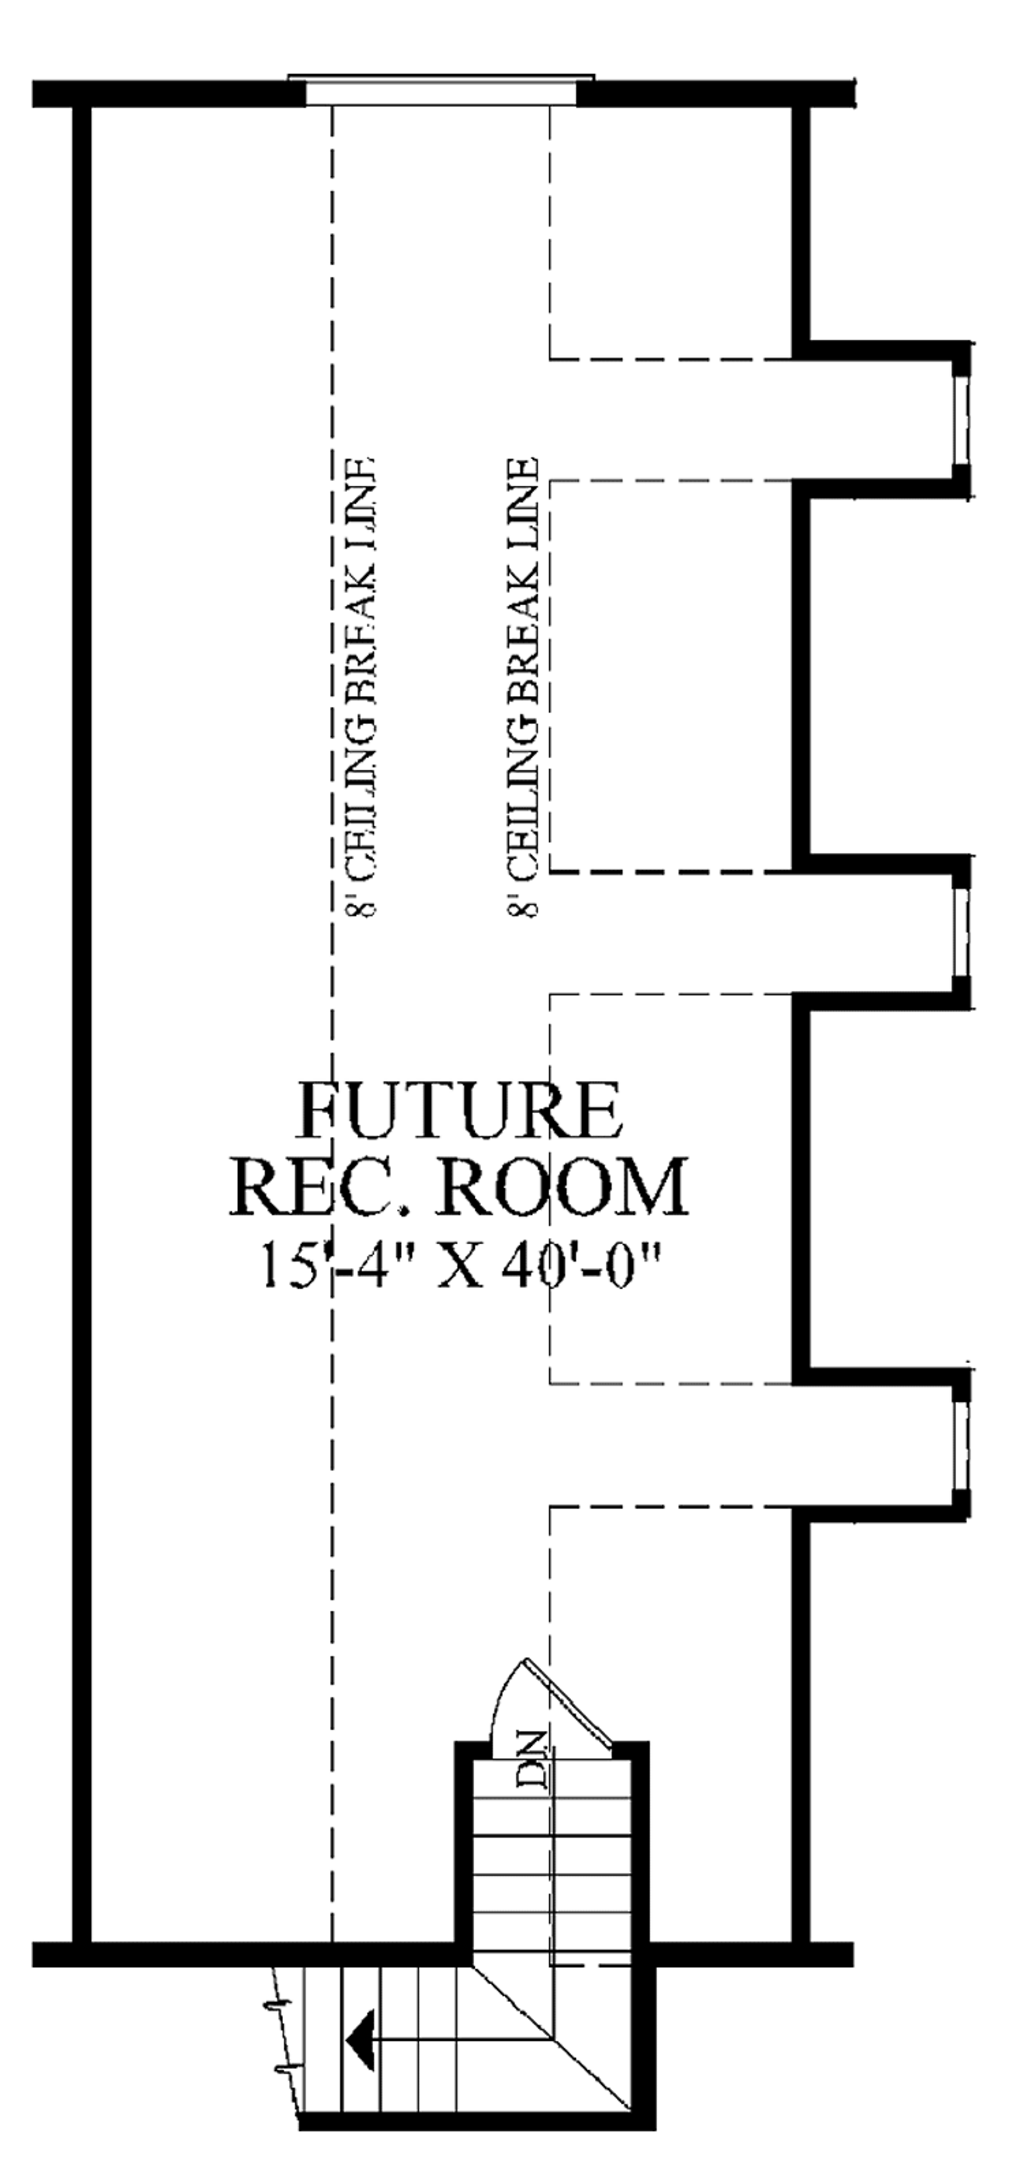door: (436, 1639, 600, 1759)
stairs: (240, 1749, 700, 2126)
window: (289, 43, 593, 129)
